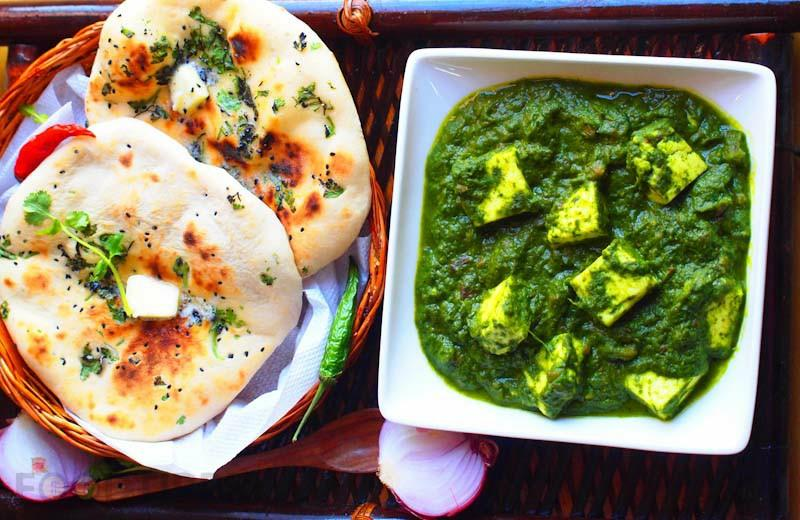PalakPaneer: (415, 73, 746, 421)
